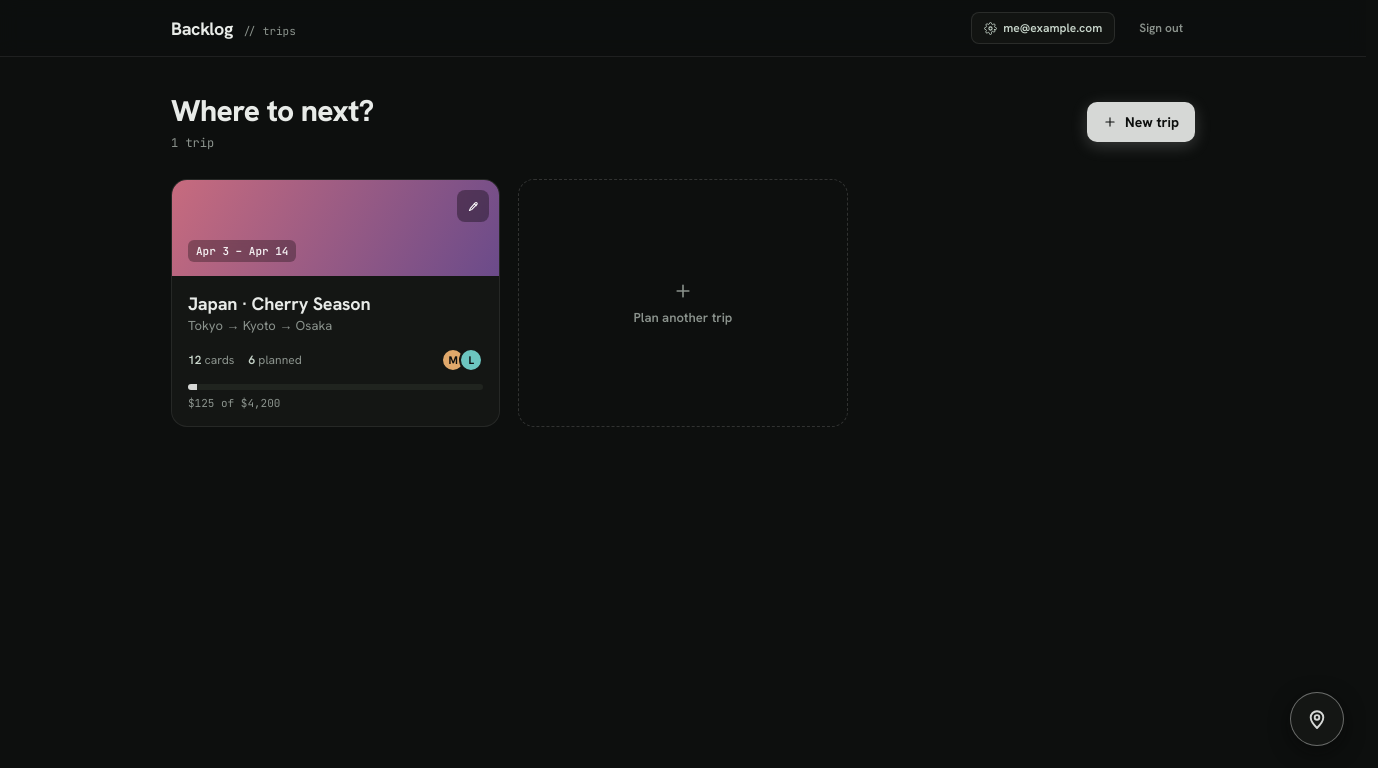
Test: TripPlanner › offers the days the trip's dates cover
Check: the heading "Where to next?" is shown, box [171,93,374,129]
Click the button with aria-label "Open Japan · Cherry Season" at (279, 304), box [188,292,370,315]
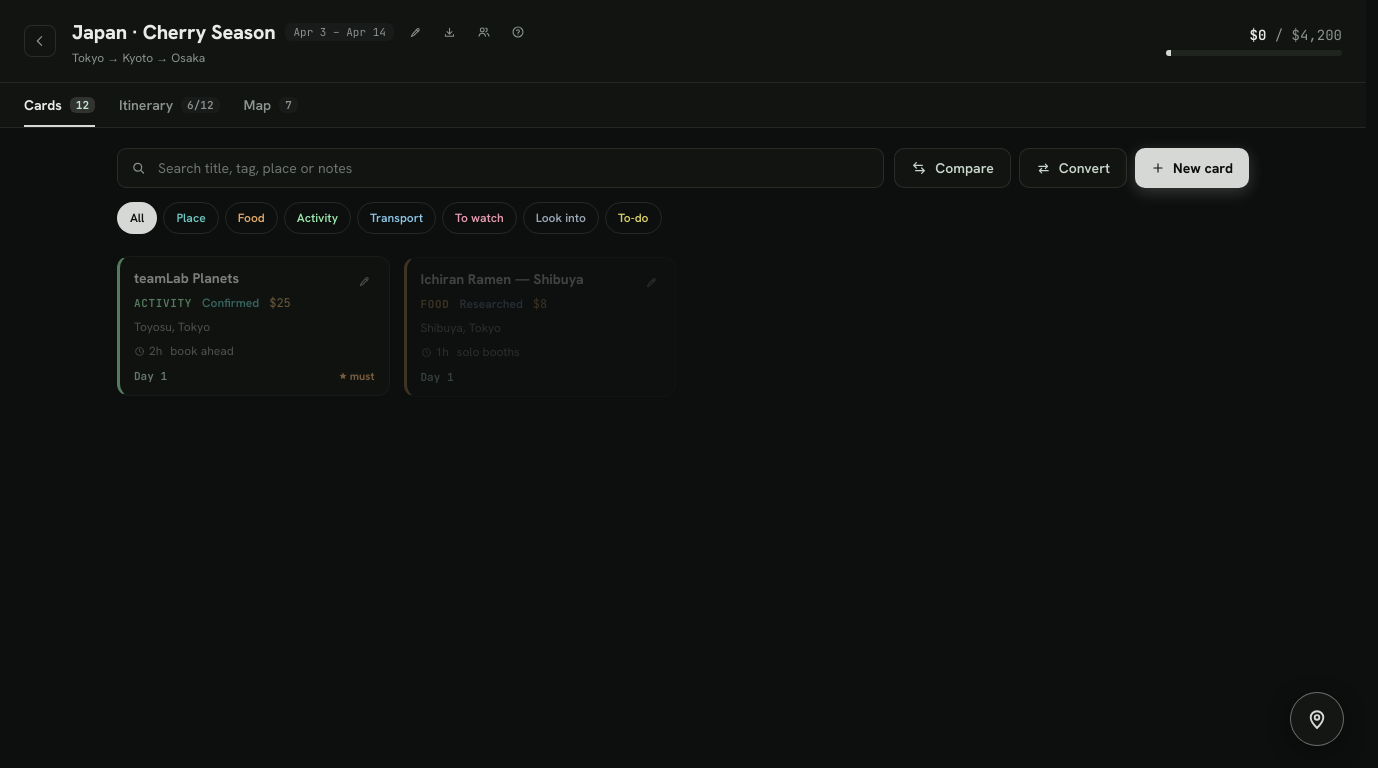
Click the tab "Itinerary 6 /12" at (169, 105), box [119,83,220,127]
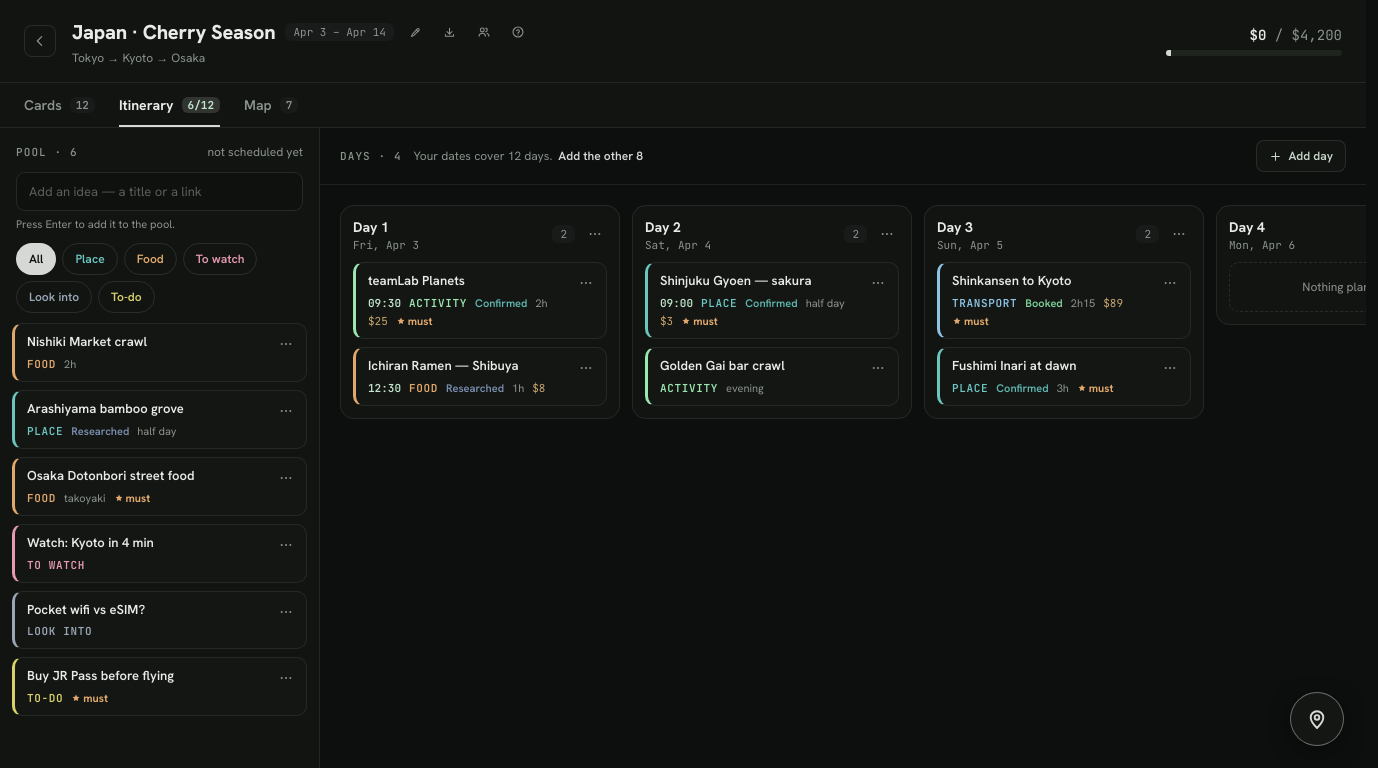
Check: the text "Your dates cover 12 days. Add the other 8" is shown, box [414,148,643,164]
Click the button "Add the other 8" at (601, 156), box [558,148,643,164]
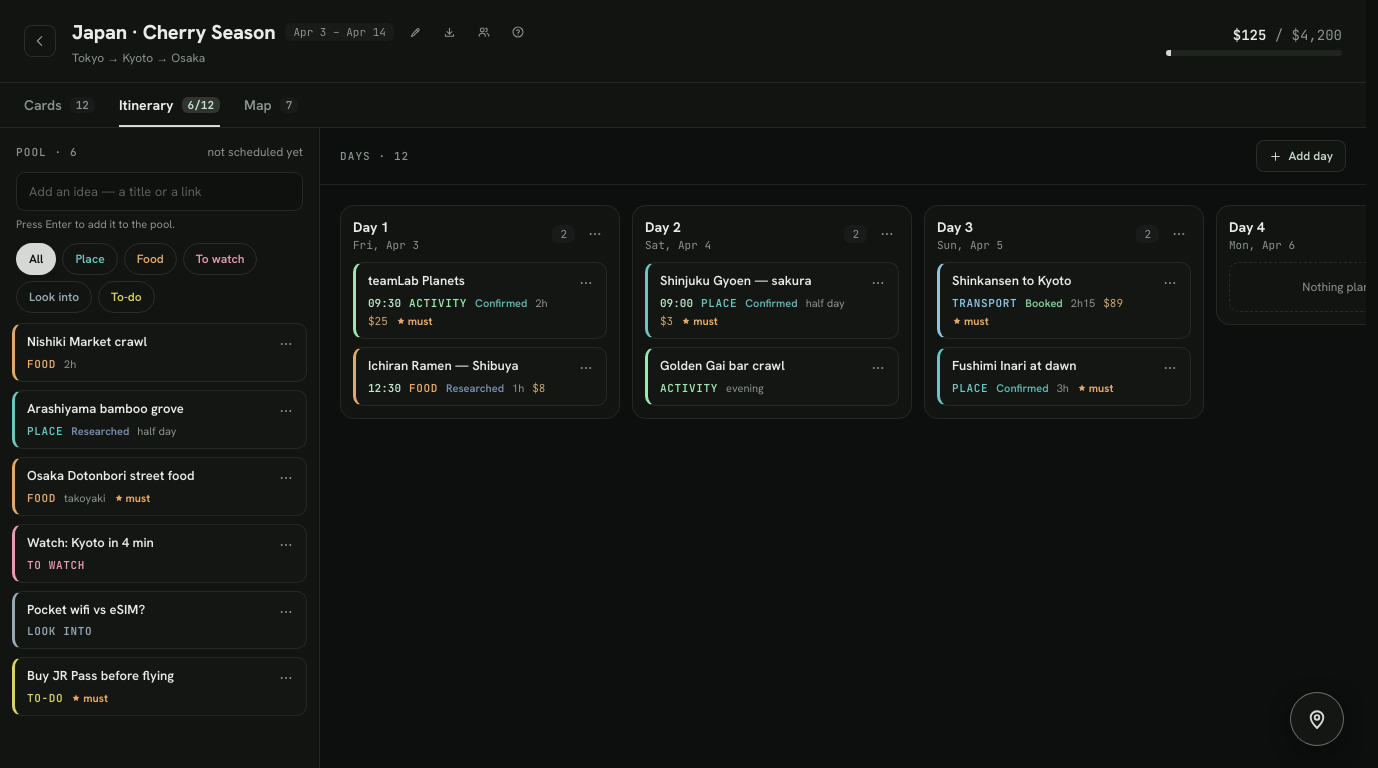
Check: the text "Your dates cover" is gone
